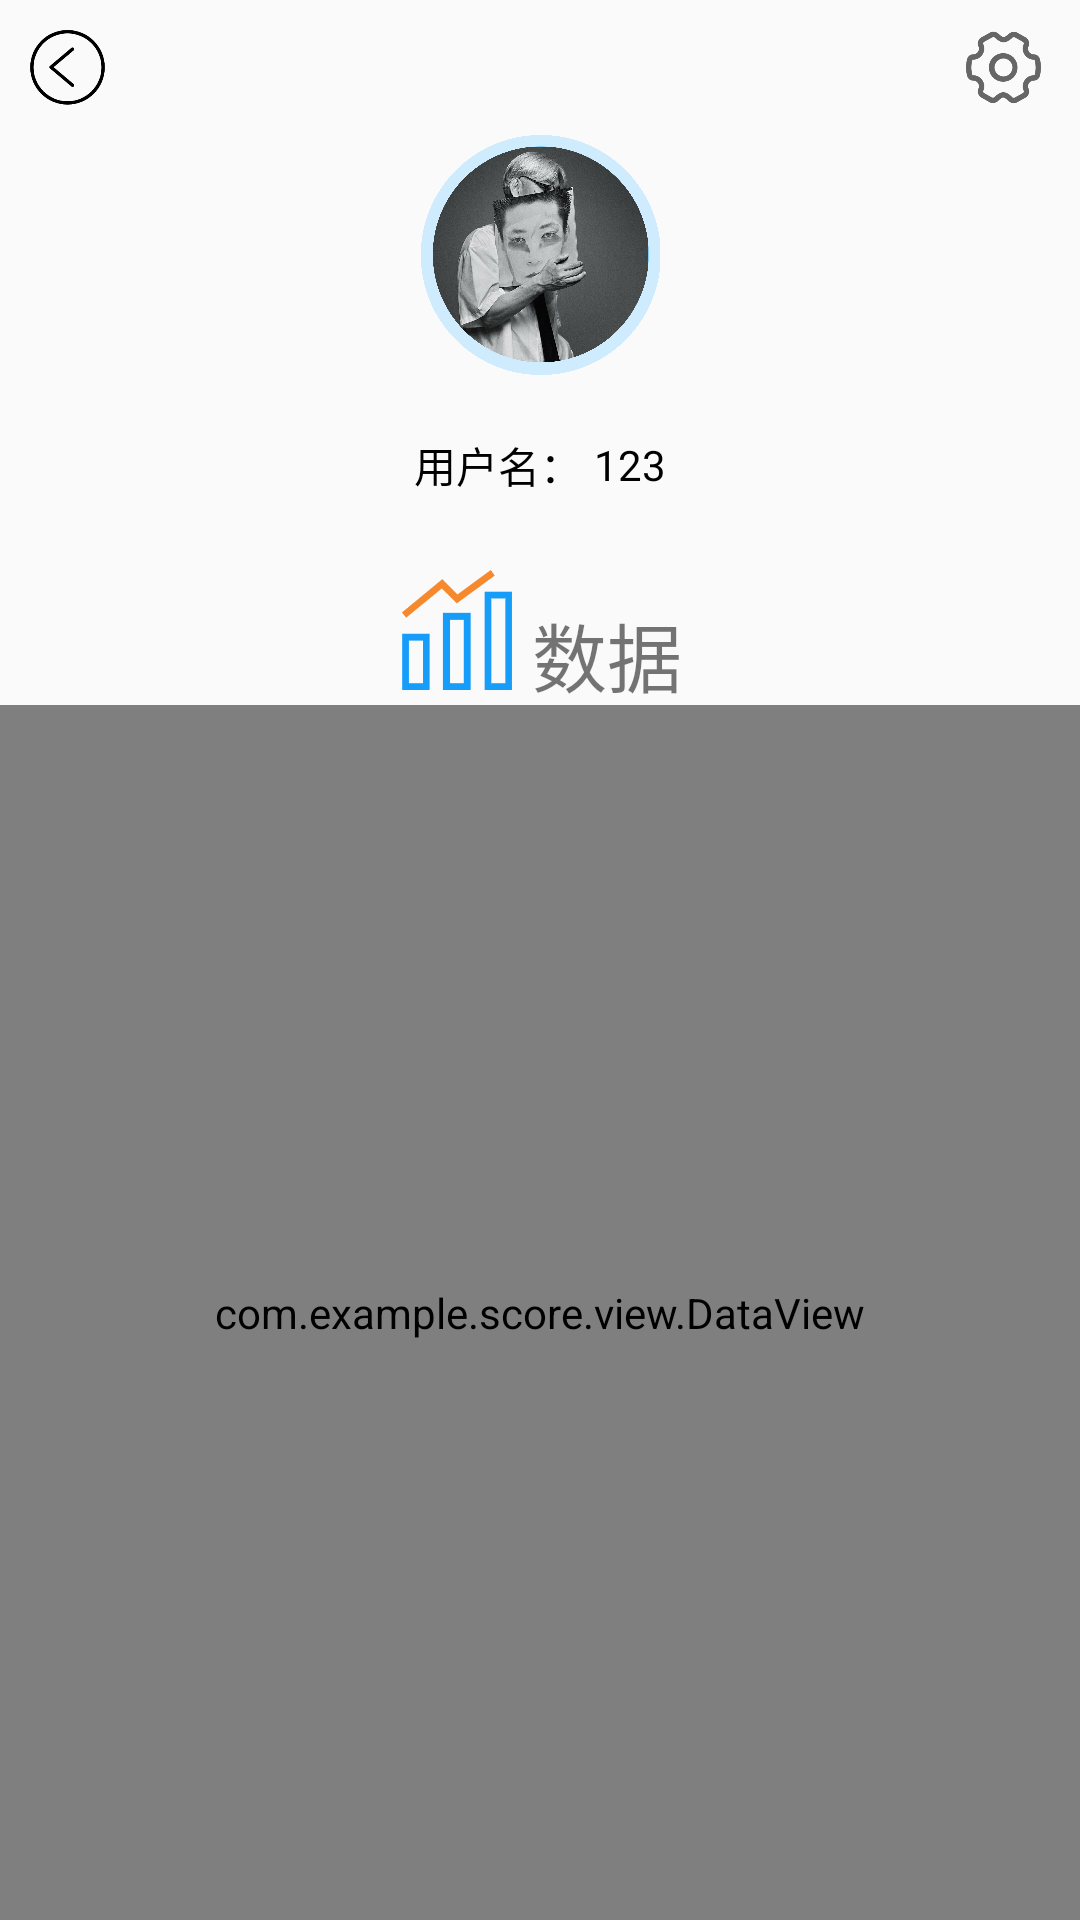

Screen size 1080 × 1920. Icon name, then its box in pixels as (x1, y1, x2, y2):
back: (30, 30, 105, 105)
datapic: (402, 570, 512, 690)
head: (421, 135, 660, 375)
setting: (966, 31, 1041, 103)
